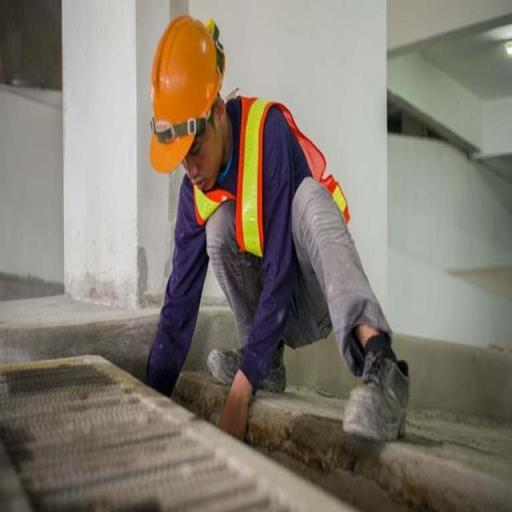helmet: (145, 7, 224, 176)
vest: (190, 88, 358, 268)
